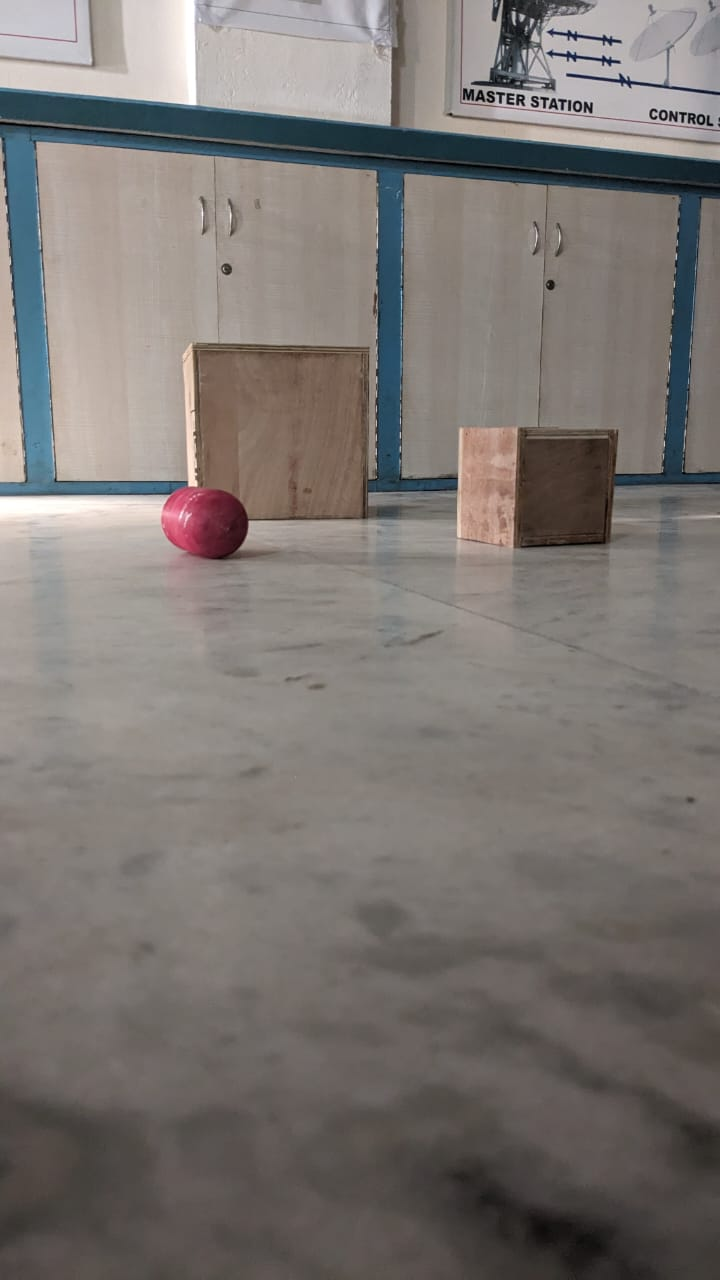150mm obstacle: (452, 414, 631, 581)
300mm obstacle: (175, 329, 391, 533)
testtube: (147, 487, 261, 570)
